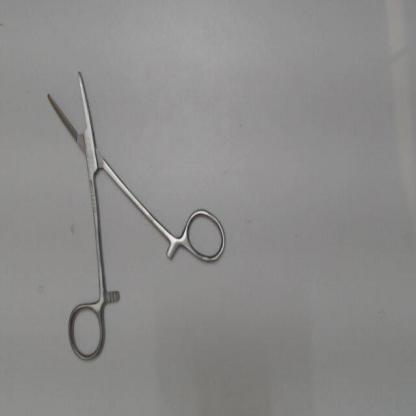Mayo Needle Holder: (34, 56, 231, 366)
